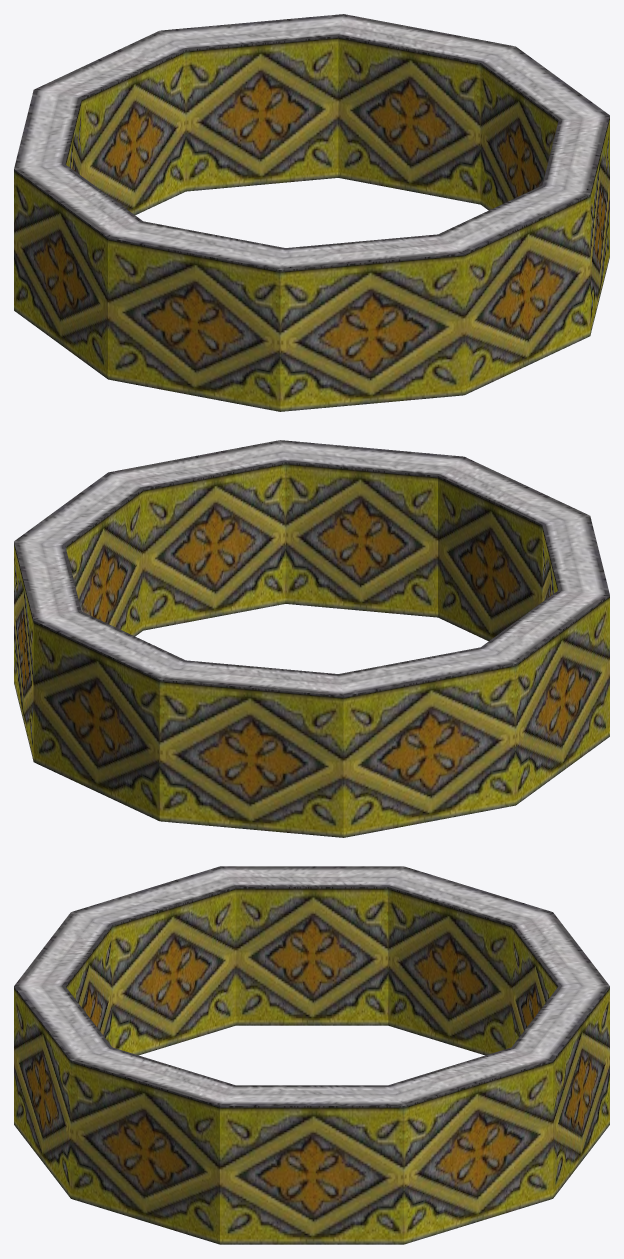
Rendered from ITRI_PROT_TOTAL_01.glb.
The picture shows the model from 3 angles, top to bottom: view 1: azimuth 30°, elevation 25°; view 2: azimuth 150°, elevation 25°; view 3: azimuth 270°, elevation 25°; orthographic projection. The views are drawn at different scales.
Parts seen in each view (by area): view 1: ITRI_PROT_TOTAL_01; view 2: ITRI_PROT_TOTAL_01; view 3: ITRI_PROT_TOTAL_01.
Part boxes in pixels (box(x1,y1,x2,y2)): ITRI_PROT_TOTAL_01: box(14, 14, 609, 411); ITRI_PROT_TOTAL_01: box(14, 440, 609, 837); ITRI_PROT_TOTAL_01: box(14, 866, 609, 1244).
Size of the model in its own units: 0.0624 by 0.0169 by 0.0657.
1 material, 1 textured.
